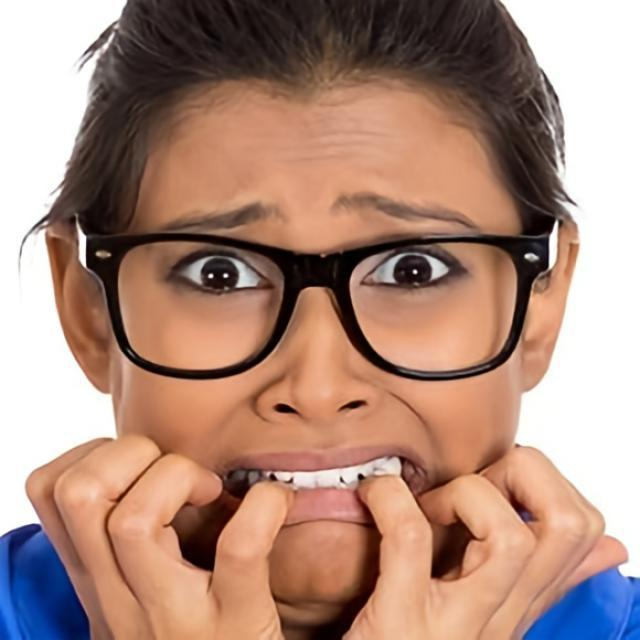Fear: (107, 63, 521, 629)
